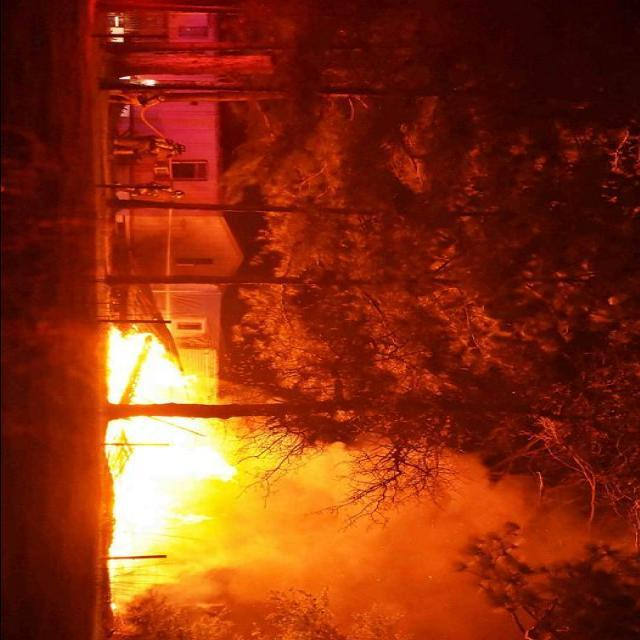Fire: (100, 326, 214, 606)
